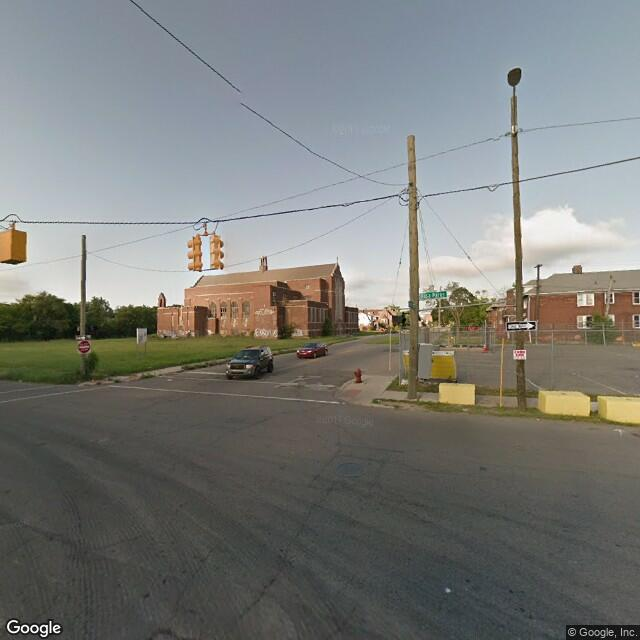litter: (611, 426, 627, 433), (534, 417, 548, 423)
